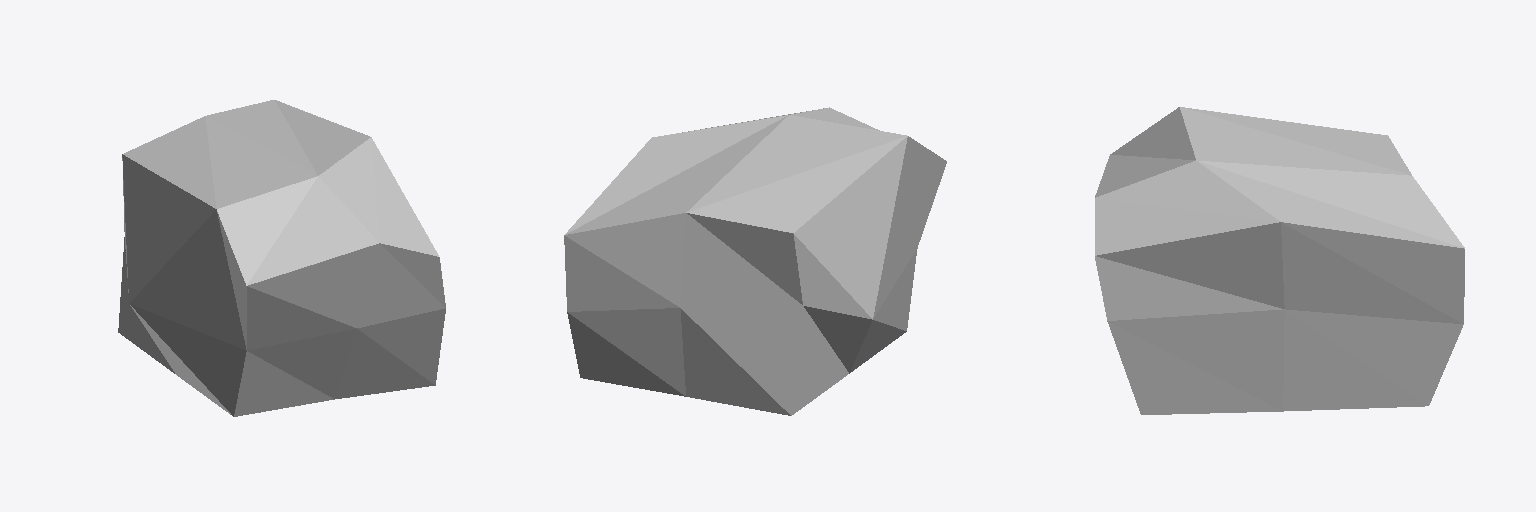
Rendered from Roca.obj.
3 views of the same model, side by side, from view 1: azimuth 30°, elevation 25°; view 2: azimuth 150°, elevation 25°; view 3: azimuth 270°, elevation 25° (orthographic).
Visible parts, largest first — view 1: Roca1; view 2: Roca1; view 3: Roca1.
Boxes of the visible parts, box(x1,y1,x2,y2) form: Roca1: box(118, 100, 445, 416); Roca1: box(564, 107, 946, 415); Roca1: box(1095, 107, 1464, 414).
Bounding box in the file's own units: 1.15 × 1 × 1.6.